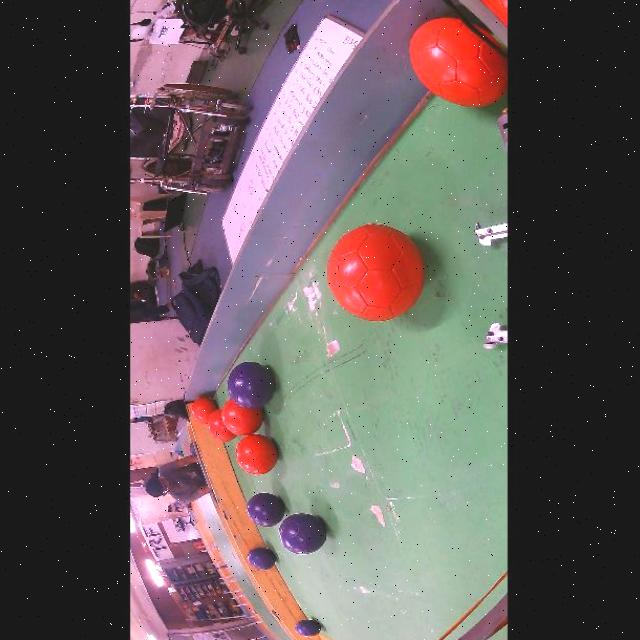P: (226, 362, 275, 409), (277, 514, 326, 554), (246, 493, 284, 527), (247, 548, 275, 570), (295, 619, 321, 637)
R: (326, 224, 423, 321), (409, 18, 507, 107), (235, 434, 276, 474), (221, 398, 262, 435), (207, 409, 235, 442), (191, 397, 216, 423)
